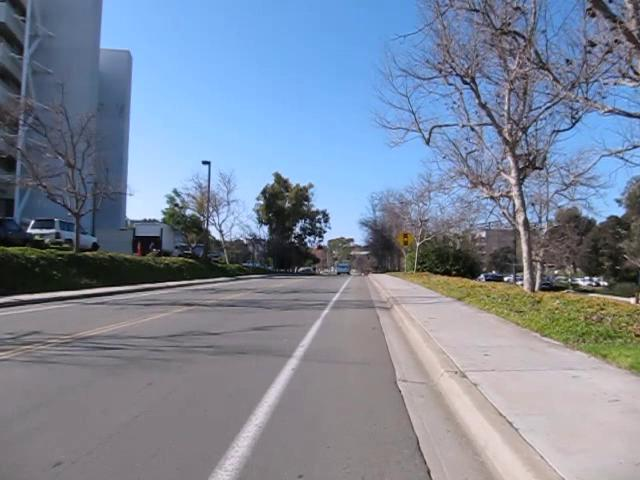signalAhead: (394, 228, 416, 249)
